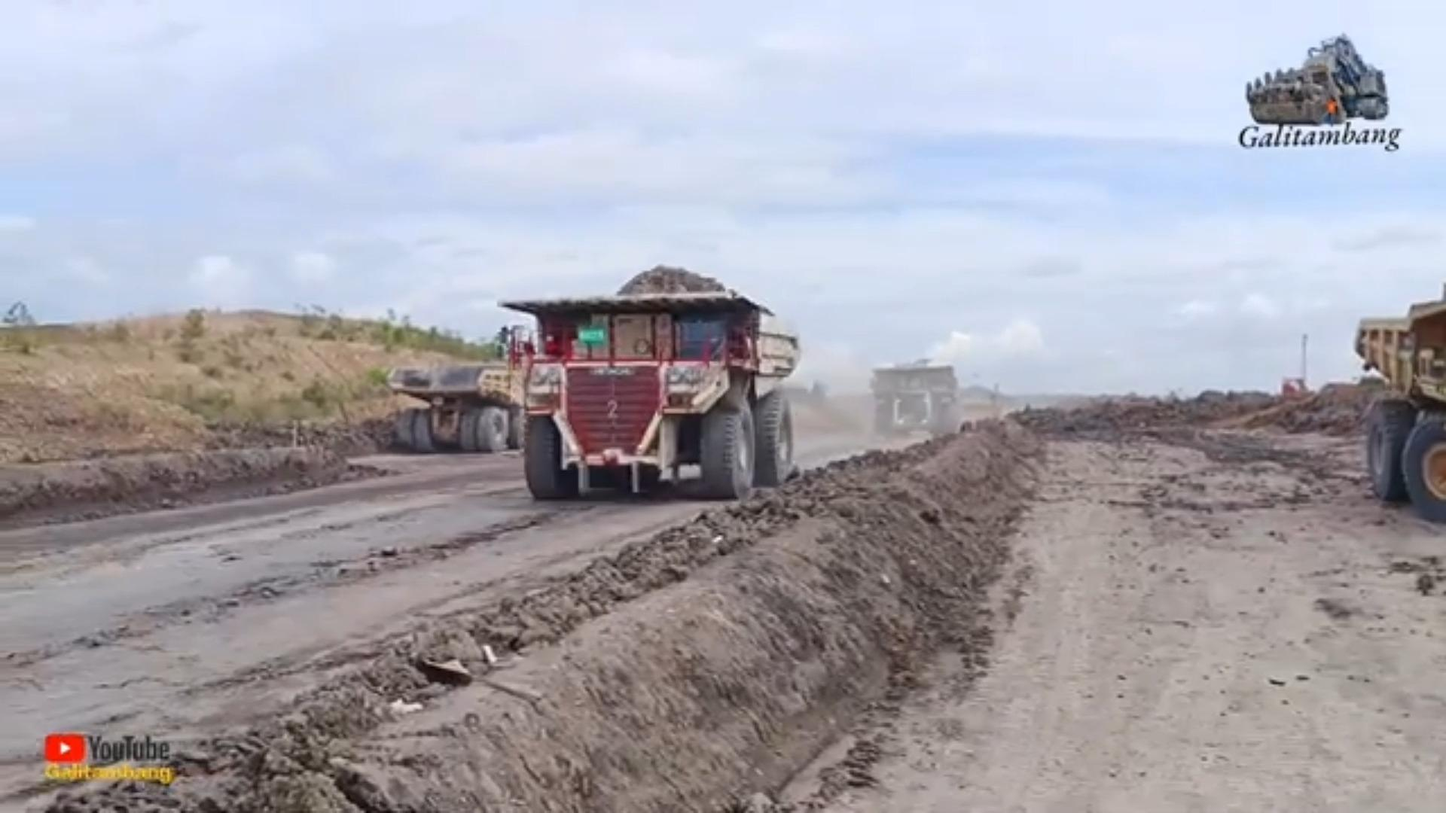HD-Truck: (504, 288, 798, 499), (386, 328, 525, 453), (871, 360, 960, 435)
